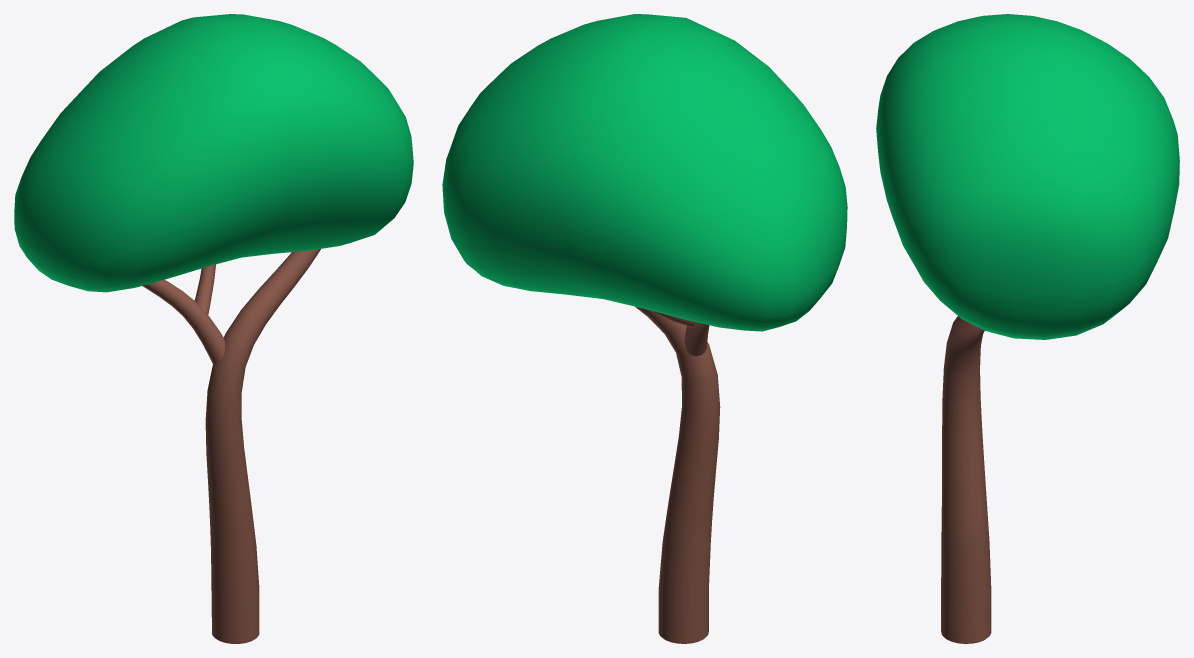
Rendered from Town_14_Tree_2.glb.
3 views of the same model, side by side, from view 1: azimuth 30°, elevation 25°; view 2: azimuth 150°, elevation 25°; view 3: azimuth 270°, elevation 25° (orthographic). The views are drawn at different scales.
Visible parts, largest first — view 1: Town_14_Tree_2; view 2: Town_14_Tree_2; view 3: Town_14_Tree_2.
Part boxes in pixels (box(x1,y1,x2,y2)): Town_14_Tree_2: box(14, 14, 413, 643); Town_14_Tree_2: box(442, 14, 847, 643); Town_14_Tree_2: box(876, 14, 1179, 643).
Size of the model in its own units: 6.88 by 11.19 by 5.01.
1 material, 1 textured.
